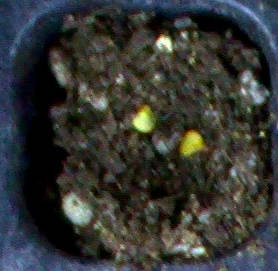chilli seed: (181, 129, 203, 156), (133, 105, 154, 133)
